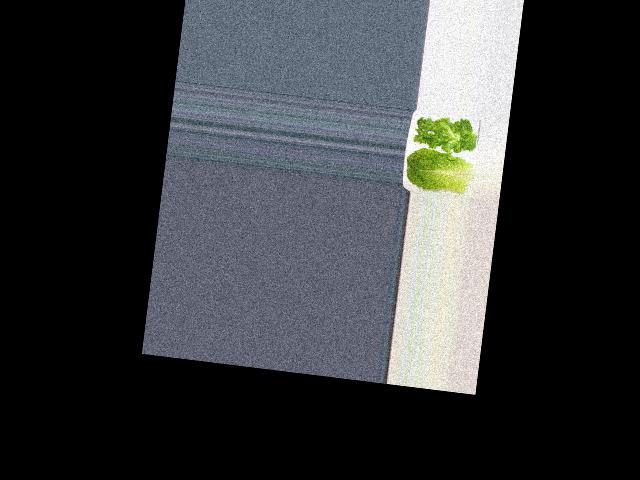lettuce: (412, 109, 477, 153)
